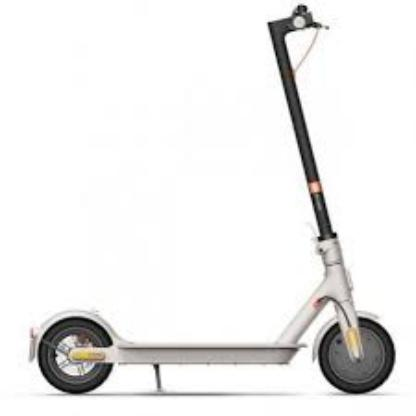bike: (2, 5, 397, 397)
car: (1, 5, 397, 397)
